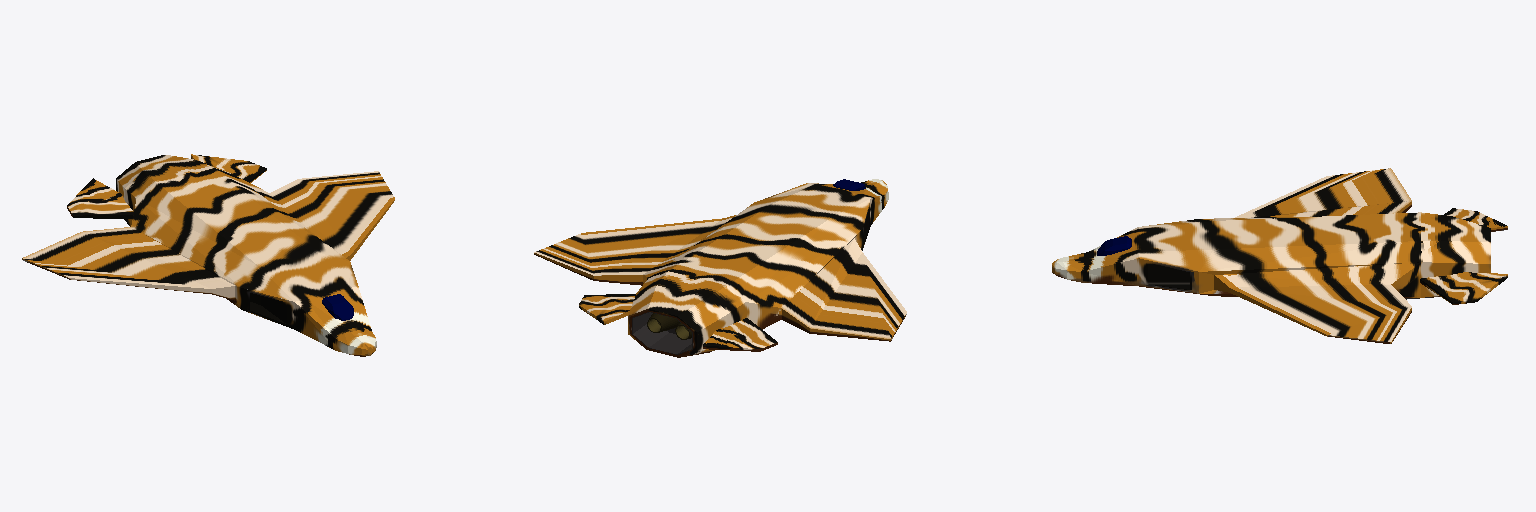
3 views of the same model, side by side, from view 1: azimuth 30°, elevation 25°; view 2: azimuth 150°, elevation 25°; view 3: azimuth 270°, elevation 25° (orthographic).
Visible parts, largest first — view 1: Hull_Cube, RightSteering_Cube.002, LeftSteering_Cube.003, Window_Cube.001; view 2: Hull_Cube, RightSteering_Cube.002, LeftSteering_Cube.003; view 3: Hull_Cube, LeftSteering_Cube.003, RightSteering_Cube.002.
Boxes of the visible parts, x1=… form: Hull_Cube: x1=22, y1=155, x2=394, y2=356; RightSteering_Cube.002: x1=67, y1=178, x2=133, y2=218; LeftSteering_Cube.003: x1=191, y1=154, x2=266, y2=182; Window_Cube.001: x1=322, y1=294, x2=353, y2=320; Hull_Cube: x1=534, y1=179, x2=906, y2=357; RightSteering_Cube.002: x1=703, y1=318, x2=777, y2=351; LeftSteering_Cube.003: x1=579, y1=294, x2=635, y2=324; Hull_Cube: x1=1052, y1=168, x2=1490, y2=343; LeftSteering_Cube.003: x1=1420, y1=272, x2=1507, y2=304; RightSteering_Cube.002: x1=1444, y1=208, x2=1507, y2=231.
Size of the model in its own units: 4.11 by 0.6443 by 4.56.
5 materials, 5 textured.